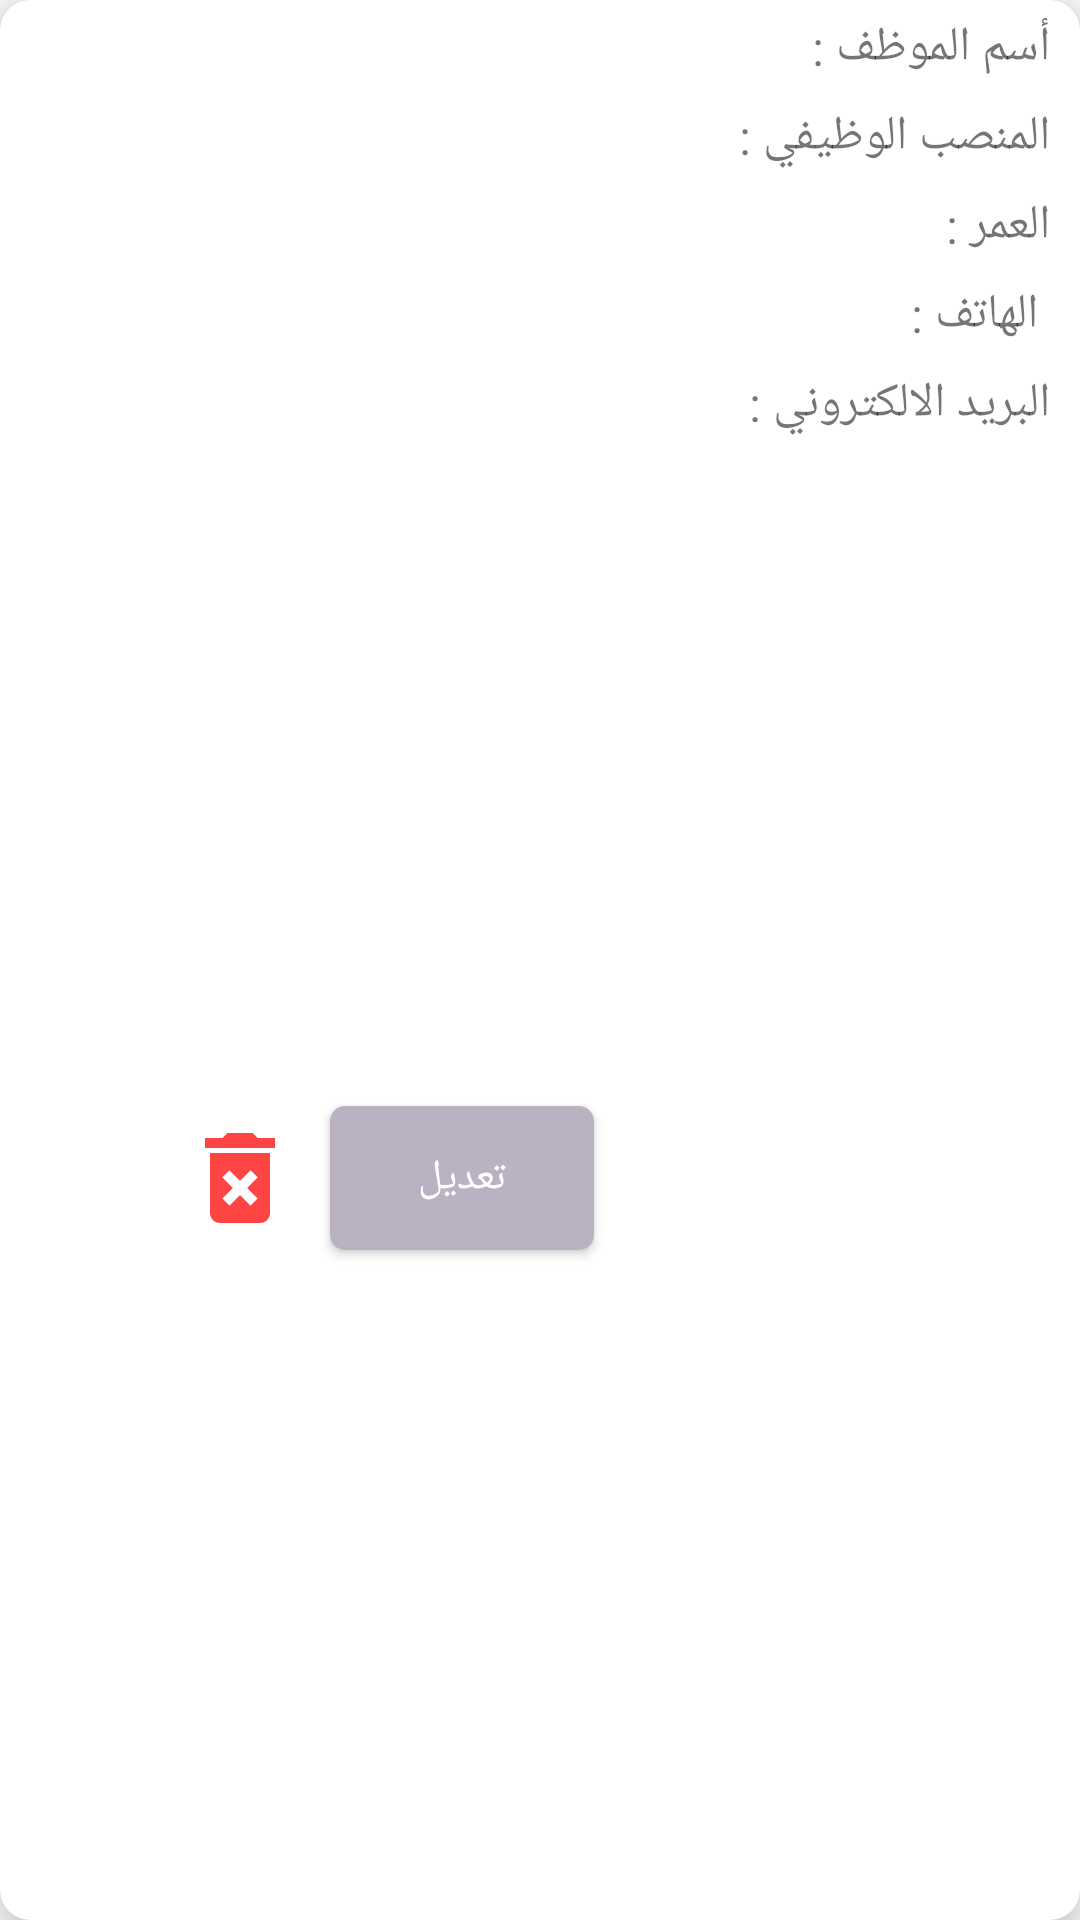

Icon bounding boxes for this 1080x1920 phone screenshot, format (left=x1, top=y1, right=x2, bottom=y2):
delete: (left=205, top=1133, right=275, bottom=1223)
